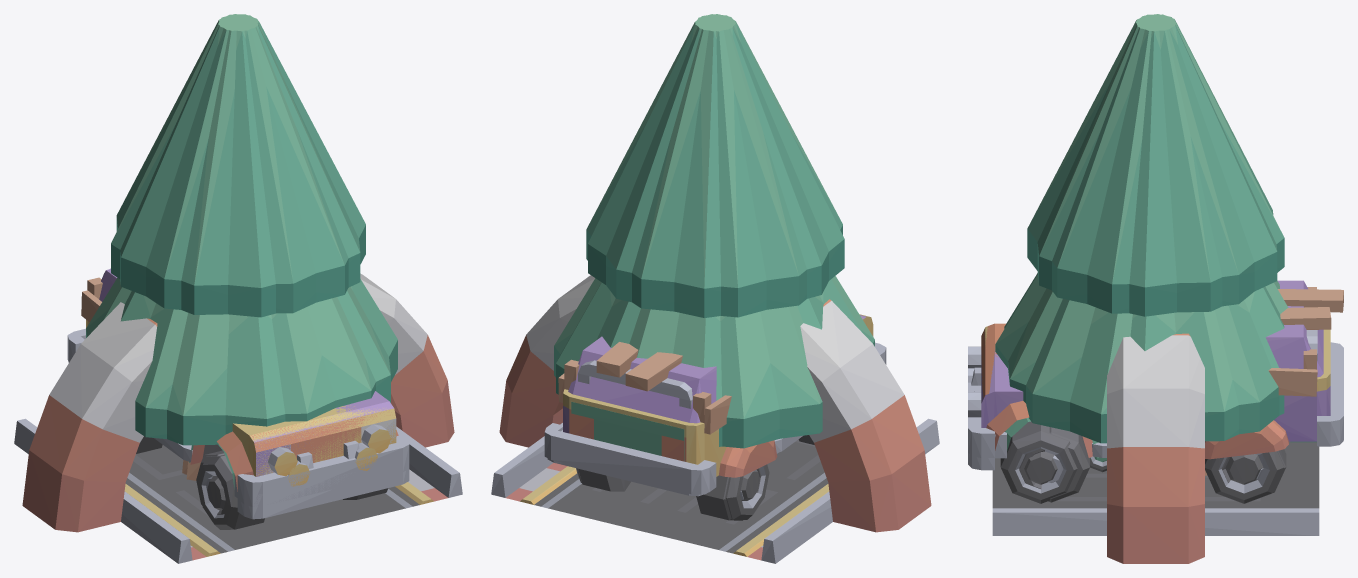
The model's file is city-props.glb.
The picture shows the model from 3 angles, left to right: view 1: azimuth 30°, elevation 25°; view 2: azimuth 150°, elevation 25°; view 3: azimuth 270°, elevation 25°; orthographic projection.
Visible parts, largest first — view 1: tree-a, tree-b, arch, truck-yellow, truck-red, truck-purple, truck-green; view 2: arch, tree-b, tree-a, truck-green, truck-yellow, truck-red, truck-purple; view 3: tree-b, tree-a, arch, truck-purple, truck-red, truck-green, truck-yellow.
Boxes of the visible parts, x1=… form: tree-a: x1=102, y1=14, x2=397, y2=474; tree-b: x1=86, y1=14, x2=390, y2=480; arch: x1=14, y1=273, x2=462, y2=563; truck-yellow: x1=68, y1=320, x2=402, y2=529; truck-red: x1=68, y1=277, x2=409, y2=529; truck-purple: x1=67, y1=269, x2=409, y2=529; truck-green: x1=103, y1=268, x2=377, y2=514; arch: x1=491, y1=275, x2=939, y2=563; tree-b: x1=556, y1=14, x2=874, y2=448; tree-a: x1=554, y1=14, x2=862, y2=446; truck-green: x1=547, y1=342, x2=814, y2=520; truck-yellow: x1=544, y1=314, x2=886, y2=519; truck-red: x1=551, y1=359, x2=777, y2=519; truck-purple: x1=545, y1=315, x2=884, y2=513; tree-b: x1=995, y1=14, x2=1288, y2=434; tree-a: x1=1004, y1=14, x2=1284, y2=475; arch: x1=992, y1=333, x2=1319, y2=563; truck-purple: x1=968, y1=280, x2=1336, y2=503; truck-red: x1=968, y1=287, x2=1342, y2=470; truck-green: x1=968, y1=289, x2=1343, y2=502; truck-yellow: x1=968, y1=326, x2=1343, y2=466.
Bounding box in the file's own units: 5.61 × 6.28 × 4.6.
